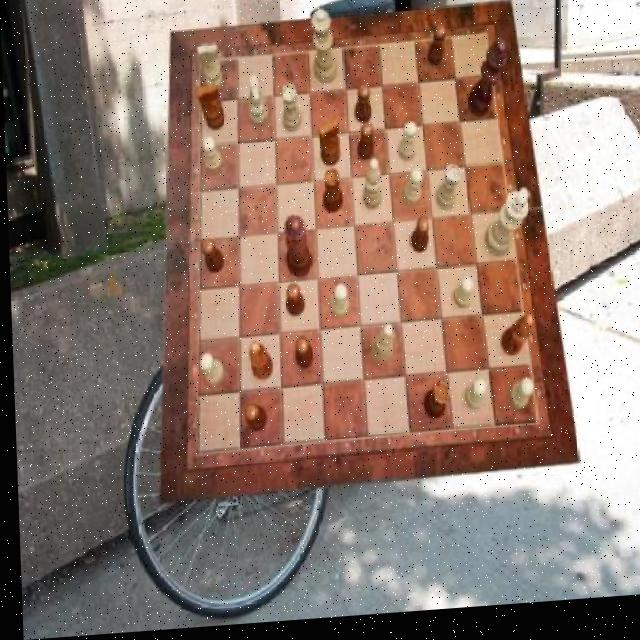bishop: (497, 322, 533, 364), (245, 345, 270, 386)
black-bishop: (465, 44, 507, 125)
black-king: (195, 86, 224, 135), (317, 124, 338, 173)
black-knight: (425, 31, 446, 74), (199, 240, 222, 276), (407, 223, 428, 259), (352, 90, 370, 131), (355, 126, 373, 166), (241, 407, 264, 436), (284, 287, 302, 322), (291, 341, 310, 374)
black-pawn: (281, 218, 310, 282)
black-queen: (418, 387, 445, 426), (320, 175, 341, 220)
black-rook: (360, 163, 380, 217), (368, 330, 393, 372)
white-bishop: (481, 196, 530, 264)
white-king: (196, 47, 223, 96), (246, 78, 267, 132)
white-knight: (197, 355, 221, 391), (504, 385, 530, 418), (395, 127, 417, 166), (400, 174, 422, 212), (202, 138, 221, 177), (460, 386, 483, 418), (327, 288, 347, 324), (450, 284, 471, 318)
white-pawn: (310, 13, 337, 90)
white-queen: (432, 170, 459, 217), (281, 87, 300, 137)
